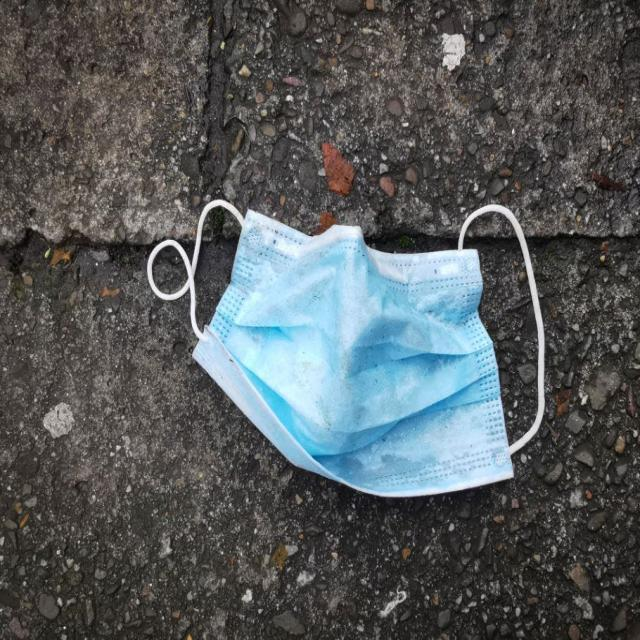face mask: (140, 188, 550, 501)
